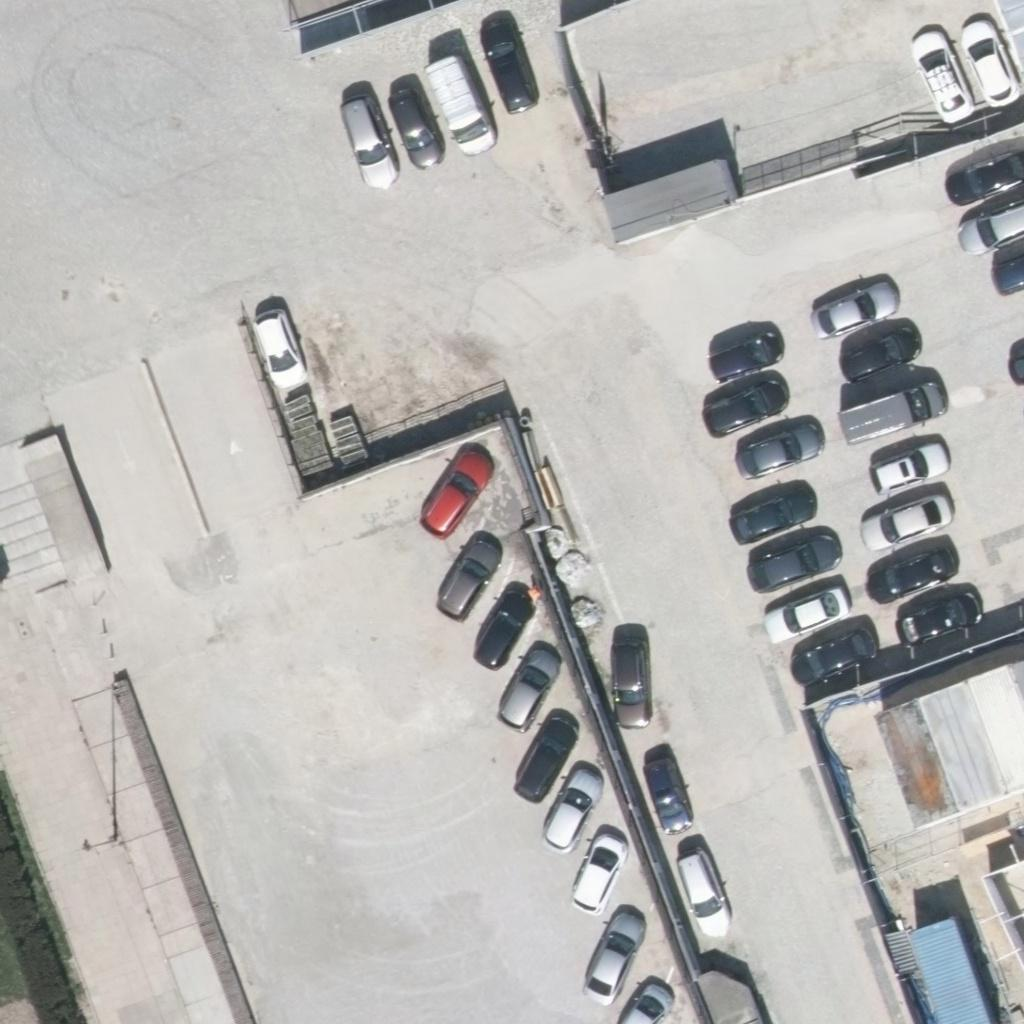samochod_osobowy: (495, 696, 592, 823), (416, 51, 499, 163), (894, 22, 973, 139), (415, 433, 499, 543), (530, 760, 616, 863), (720, 409, 828, 491), (457, 576, 544, 673), (575, 903, 654, 1006), (843, 376, 951, 450), (763, 561, 851, 651), (488, 641, 572, 733), (722, 471, 822, 548), (330, 94, 405, 196), (670, 840, 742, 946), (477, 15, 549, 120), (604, 613, 657, 748), (953, 13, 1024, 112), (428, 538, 506, 626), (243, 293, 311, 393), (697, 374, 794, 443), (858, 487, 955, 556), (890, 591, 988, 657), (577, 818, 634, 926), (790, 623, 880, 691), (808, 273, 899, 340), (748, 523, 842, 586), (858, 437, 953, 498), (637, 743, 699, 836), (867, 543, 958, 606), (838, 321, 924, 385), (937, 144, 1023, 205), (698, 324, 782, 386), (388, 84, 443, 174), (952, 201, 1024, 259), (611, 970, 687, 1024), (988, 257, 1024, 299), (1006, 353, 1024, 390)
